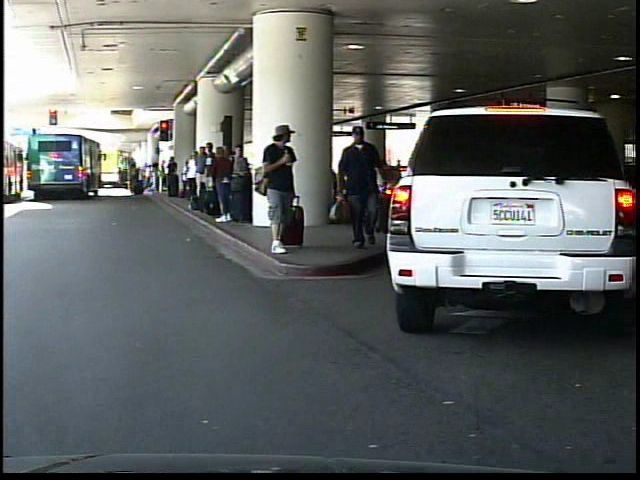person: (338, 125, 394, 251), (260, 121, 307, 253)
